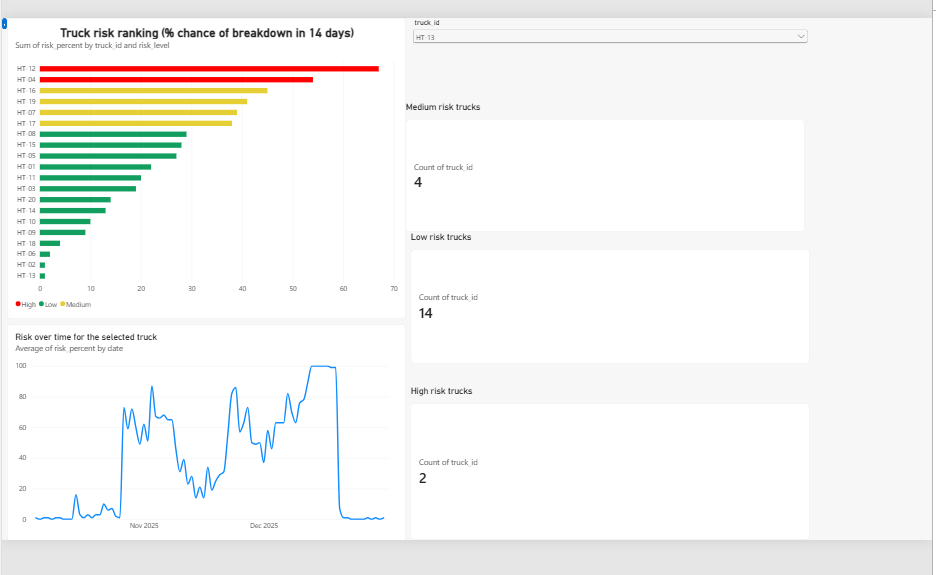

Layout of this report page (visuals, bound fields, positions):
{"tool":"powerbi","page":{"name":"Page 1","canvas":[1920,1080],"ordinal":0},"visuals":[{"type":"barChart","title":"Truck risk ranking (% chance of breakdown in 14 days)","fields":{"Category":["latest.truck_id"],"Series":["latest.risk_level"],"Y":["Sum(latest.risk_percent)"]},"box":[10,0,824.1,621.9],"z":0},{"type":"lineChart","title":"Risk over time for the selected truck","fields":{"Category":["daily.date"],"Y":["Avg(daily.risk_percent)"]},"box":[10,632,824,448],"z":1000},{"type":"slicer","fields":{"Values":["daily.truck_id"]},"box":[844,0,824,622],"z":2000},{"type":"cardVisual","title":"High risk trucks","fields":{"Data":["Count(latest.truck_id)"]},"box":[844.1,759.2,824.1,319.7],"z":3000},{"type":"actionButton","box":[0,0,10.3,23.2],"z":4000},{"type":"cardVisual","title":"Low risk trucks","fields":{"Data":["Count(latest.truck_id)"]},"box":[844.1,442,824.1,272.2],"z":5000},{"type":"cardVisual","title":"Medium risk trucks","fields":{"Data":["Count(latest.truck_id)"]},"box":[834.1,172.3,824.1,269.7],"z":6000},{"type":"textbox","box":[1678,0,242,622],"z":7000}]}

Visuals, with their boxes on the page's 1920x1080 design canvas (x1, y1, x2, y2). These are canvas units, not pixel positions in the 936x575 screenshot, which may show the page scaled, cropped or inside an application window:
"Truck risk ranking (% chance of breakdown in 14 days)" barChart: region(10, 0, 834, 622)
"Risk over time for the selected truck" lineChart: region(10, 632, 834, 1080)
slicer - daily.truck_id: region(844, 0, 1668, 622)
"High risk trucks" cardVisual: region(844, 759, 1668, 1079)
actionButton: region(0, 0, 10, 23)
"Low risk trucks" cardVisual: region(844, 442, 1668, 714)
"Medium risk trucks" cardVisual: region(834, 172, 1658, 442)
textbox: region(1678, 0, 1920, 622)
